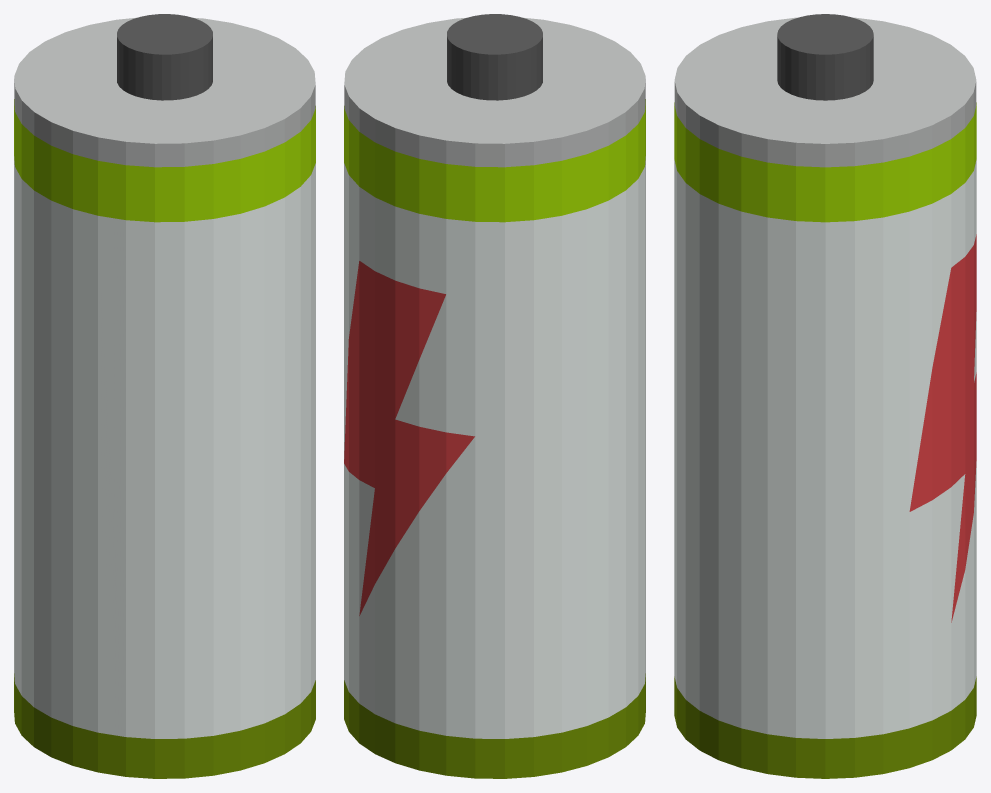
Rendered from batre.glb.
3 views of the same model, side by side, from view 1: azimuth 30°, elevation 25°; view 2: azimuth 150°, elevation 25°; view 3: azimuth 270°, elevation 25° (orthographic).
Visible parts, largest first — view 1: Cylinder.001, Cylinder, Cylinder.002; view 2: Cylinder.001, Cylinder, Cylinder.002; view 3: Cylinder.001, Cylinder, Cylinder.002.
Part boxes in pixels (x1=…): Cylinder.001: x1=14, y1=99, x2=315, y2=778; Cylinder: x1=14, y1=17, x2=315, y2=167; Cylinder.002: x1=117, y1=14, x2=212, y2=100; Cylinder.001: x1=344, y1=99, x2=645, y2=778; Cylinder: x1=344, y1=17, x2=645, y2=167; Cylinder.002: x1=447, y1=14, x2=542, y2=100; Cylinder.001: x1=674, y1=102, x2=976, y2=778; Cylinder: x1=674, y1=17, x2=976, y2=167; Cylinder.002: x1=777, y1=14, x2=873, y2=100.
Bounding box in the file's own units: 2 × 4.97 × 2.
